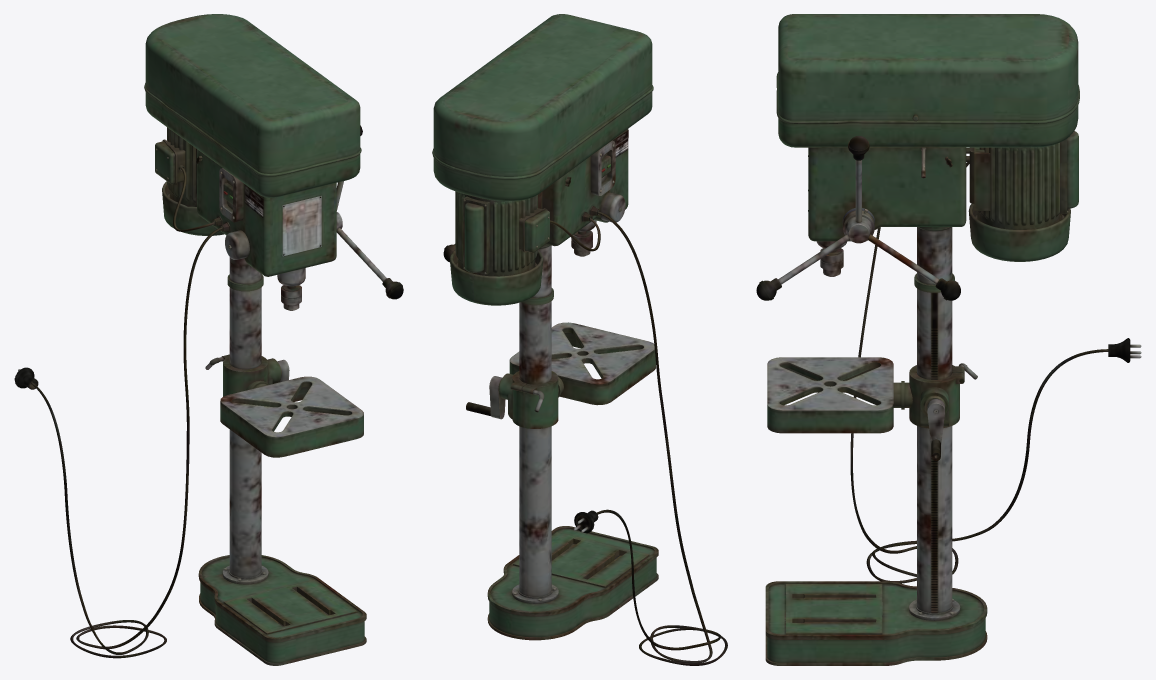
3 renders of one model, left to right at view 1: azimuth 30°, elevation 25°; view 2: azimuth 150°, elevation 25°; view 3: azimuth 270°, elevation 25°, orthographic. The views are drawn at different scales.
Visible parts, largest first — view 1: old_drill_press, old_drill_press_cable; view 2: old_drill_press, old_drill_press_cable; view 3: old_drill_press, old_drill_press_cable.
Part boxes in pixels (x1,y1,x2,y2): old_drill_press: [144, 14, 403, 665]; old_drill_press_cable: [14, 167, 222, 658]; old_drill_press: [432, 14, 658, 640]; old_drill_press_cable: [550, 211, 727, 665]; old_drill_press: [756, 14, 1079, 665]; old_drill_press_cable: [850, 162, 1141, 583].
Size of the model in its own units: 0.5272 by 1.05 by 0.6095.
Materials: 1 (1 with a texture image).
